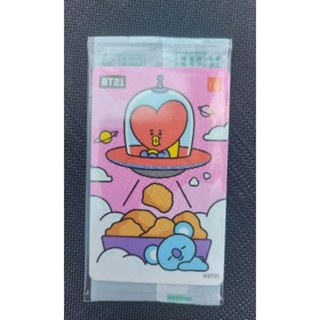card: (90, 66, 223, 285)
